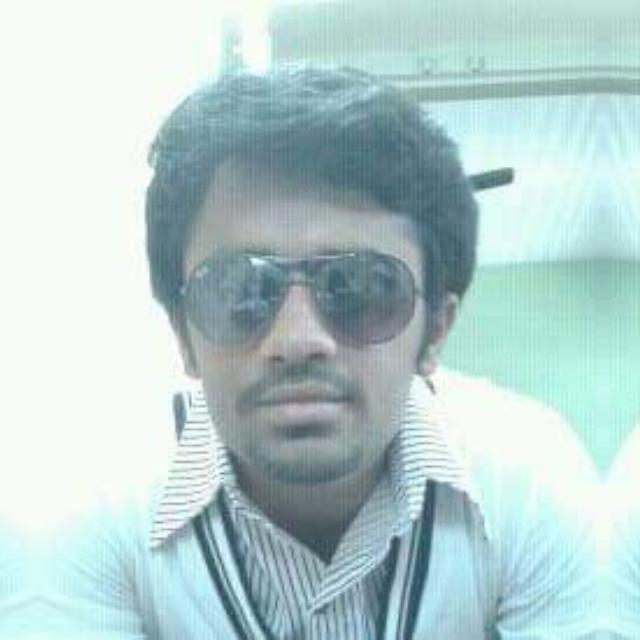person: (78, 71, 520, 640)
